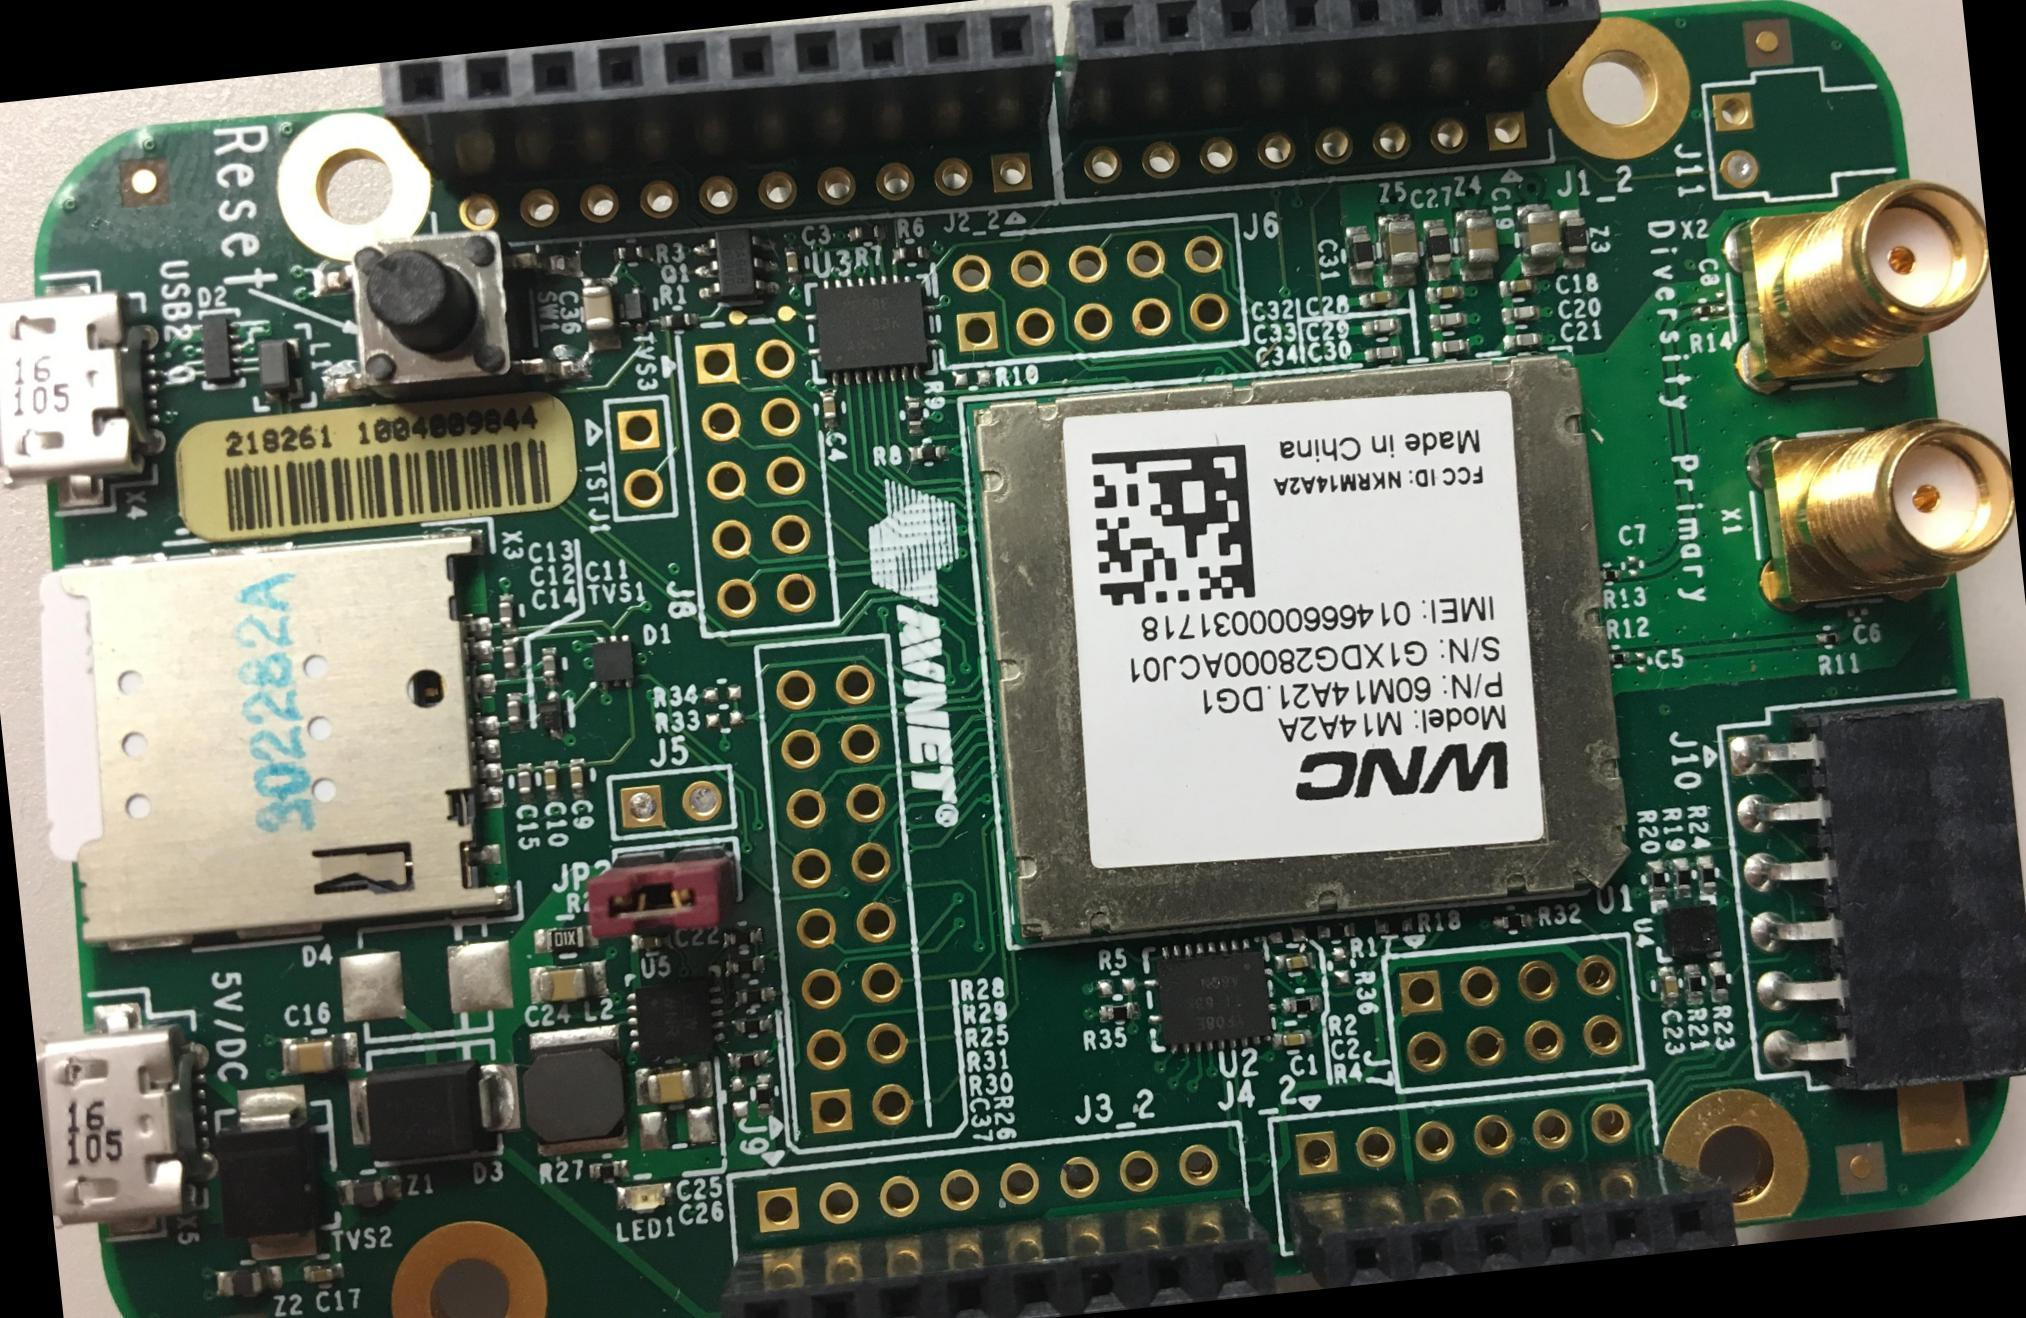Button: (307, 222, 591, 411)
Capacitor: (632, 1060, 717, 1108), (529, 960, 608, 1005), (577, 276, 623, 355), (279, 1032, 362, 1075), (1558, 208, 1592, 271), (1421, 217, 1452, 282), (1345, 224, 1375, 287), (1272, 948, 1318, 973), (493, 590, 520, 635), (537, 643, 562, 686), (541, 757, 565, 800), (503, 690, 527, 735), (628, 932, 673, 953), (513, 762, 536, 804), (1655, 966, 1681, 1007), (816, 389, 840, 429), (781, 244, 803, 285), (568, 756, 591, 796), (1358, 288, 1398, 310), (1275, 1028, 1312, 1052), (1504, 331, 1542, 354), (1361, 316, 1403, 336), (1501, 302, 1539, 324), (1431, 337, 1469, 359), (499, 635, 520, 675), (1423, 284, 1463, 304), (1499, 277, 1538, 298), (1429, 310, 1466, 330), (1363, 344, 1401, 363)
Connector: (21, 515, 522, 967), (411, 0, 1087, 258), (1712, 679, 2025, 1103), (1035, 0, 1612, 209), (723, 1117, 1276, 1317), (1265, 1073, 1738, 1293), (749, 634, 937, 1153), (1718, 171, 2001, 398), (1744, 410, 2023, 614), (672, 317, 839, 639), (928, 208, 1249, 370), (31, 986, 220, 1248), (1381, 929, 1644, 1094), (0, 264, 163, 520), (1698, 57, 1903, 208), (605, 763, 737, 841), (603, 392, 680, 522)
Diode: (344, 1037, 525, 1166), (214, 1096, 340, 1240), (694, 225, 781, 309), (194, 306, 244, 392), (589, 633, 636, 691), (535, 690, 574, 741)
IC: (955, 333, 1632, 951), (803, 272, 936, 386), (1144, 940, 1278, 1053), (625, 969, 724, 1058), (1651, 897, 1722, 960)
Inductor: (515, 1022, 628, 1159), (251, 322, 313, 411)
Led: (613, 1182, 675, 1214)
Pads: (339, 935, 521, 1026), (635, 1104, 721, 1153), (702, 677, 744, 709), (1326, 945, 1355, 987), (703, 708, 748, 733), (730, 1075, 751, 1119), (1097, 976, 1140, 998), (953, 368, 994, 390), (1712, 289, 1729, 315), (1632, 649, 1648, 676), (1624, 553, 1639, 578), (1848, 605, 1869, 619)
Resistor: (534, 925, 598, 957), (722, 951, 766, 983), (733, 985, 777, 1012), (1265, 923, 1311, 949), (589, 1157, 632, 1185), (1491, 907, 1533, 935), (729, 1015, 775, 1039), (1706, 961, 1729, 1006), (751, 1073, 775, 1119), (1681, 964, 1706, 1007), (1694, 853, 1717, 897), (1282, 992, 1323, 1017), (1315, 919, 1356, 944), (1373, 914, 1417, 935), (656, 311, 700, 333), (721, 926, 764, 948), (1647, 858, 1669, 901), (1670, 856, 1693, 899), (728, 1050, 769, 1072), (1100, 1001, 1139, 1023), (614, 245, 651, 267), (844, 223, 881, 245), (911, 441, 947, 464), (904, 396, 925, 431), (892, 244, 925, 265), (1816, 632, 1840, 649), (1607, 649, 1630, 665), (1598, 568, 1620, 583), (1695, 303, 1715, 317)
